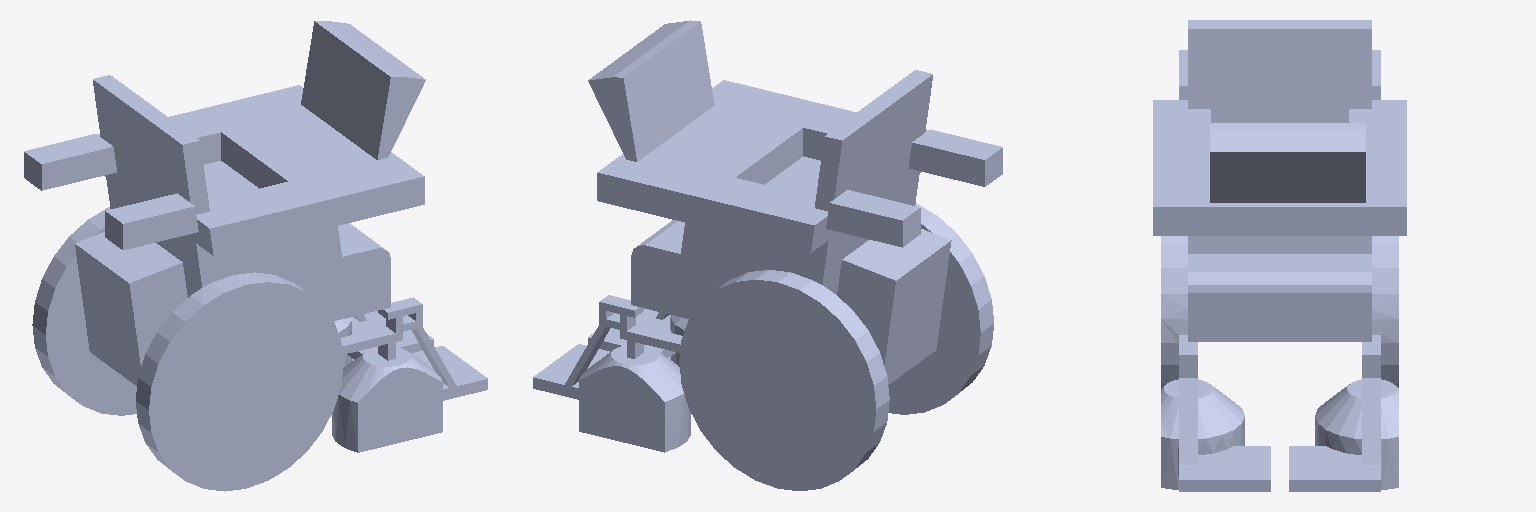
URDF robot description (wheelchair_simulation_expanded):
<robot
  name="wheelchair_simulation_expanded">
  <link
    name="base_link">
    <inertial>
      <origin
        xyz="0.487546592848365 -3.31781210551851E-07 0.567981710479686"
        rpy="0 0 0" />
      <mass
        value="367.181863343137" />
      <inertia
        ixx="0"
        ixy="0"
        ixz="0"
        iyy="0"
        iyz="0"
        izz="0" />
    </inertial>
    <visual>
      <origin
        xyz="0 0 0"
        rpy="0 0 0" />
      <geometry>
        <mesh
          filename="package://wheelchair_simulation_expanded/meshes/base_link.STL" />
      </geometry>
      <material
        name="">
        <color
          rgba="0.792156862745098 0.819607843137255 0.933333333333333 1" />
      </material>
    </visual>
    <collision>
      <origin
        xyz="0 0 0"
        rpy="0 0 0" />
      <geometry>
        <mesh
          filename="package://wheelchair_simulation_expanded/meshes/base_link.STL" />
      </geometry>
    </collision>
  </link>
</robot>

--- Facts derived from the render (not from the file) ---
Views: 3 orthographic renders of the robot side by side, from view 1: azimuth 30°, elevation 25°; view 2: azimuth 150°, elevation 25°; view 3: azimuth 270°, elevation 25°.
Robot: wheelchair_simulation_expanded — 1 links, 0 joints (none); root link base_link; default pose: every joint at zero.
Links seen in each view (by area): view 1: base_link; view 2: base_link; view 3: base_link.
Boxes of the visible links, x1,y1,x2,y2 form: base_link: (24, 21, 487, 491); base_link: (533, 20, 1002, 490); base_link: (1153, 20, 1406, 491).
Size in the robot's own frame: 1.35 by 0.8 by 1.25 metres.
1 mesh visuals loaded from 1 distinct referenced files (1 binary STL).